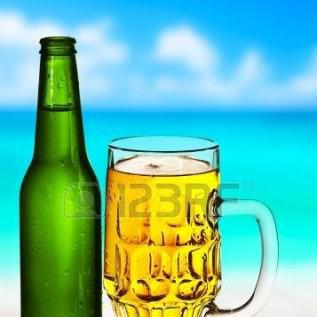beer: (17, 37, 105, 317)
